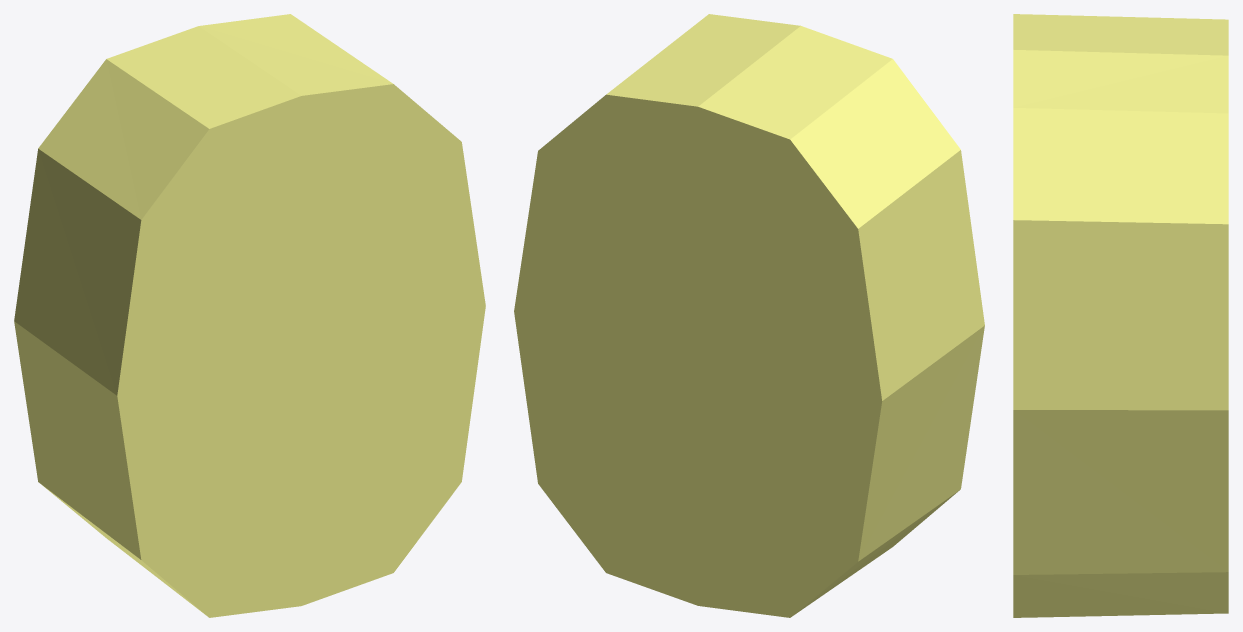
The model's file is banana_slice_1.dae.
3 views of the same model, side by side, from view 1: azimuth 30°, elevation 25°; view 2: azimuth 150°, elevation 25°; view 3: azimuth 270°, elevation 25° (orthographic). The views are drawn at different scales.
Visible parts, largest first — view 1: Banana.002; view 2: Banana.002; view 3: Banana.002.
Boxes of the visible parts, box(x1,y1,x2,y2) form: Banana.002: box(14, 14, 485, 617); Banana.002: box(514, 14, 984, 617); Banana.002: box(1013, 14, 1228, 617).
Bounding box in the file's own units: 1.92 × 0.9277 × 2.53.
